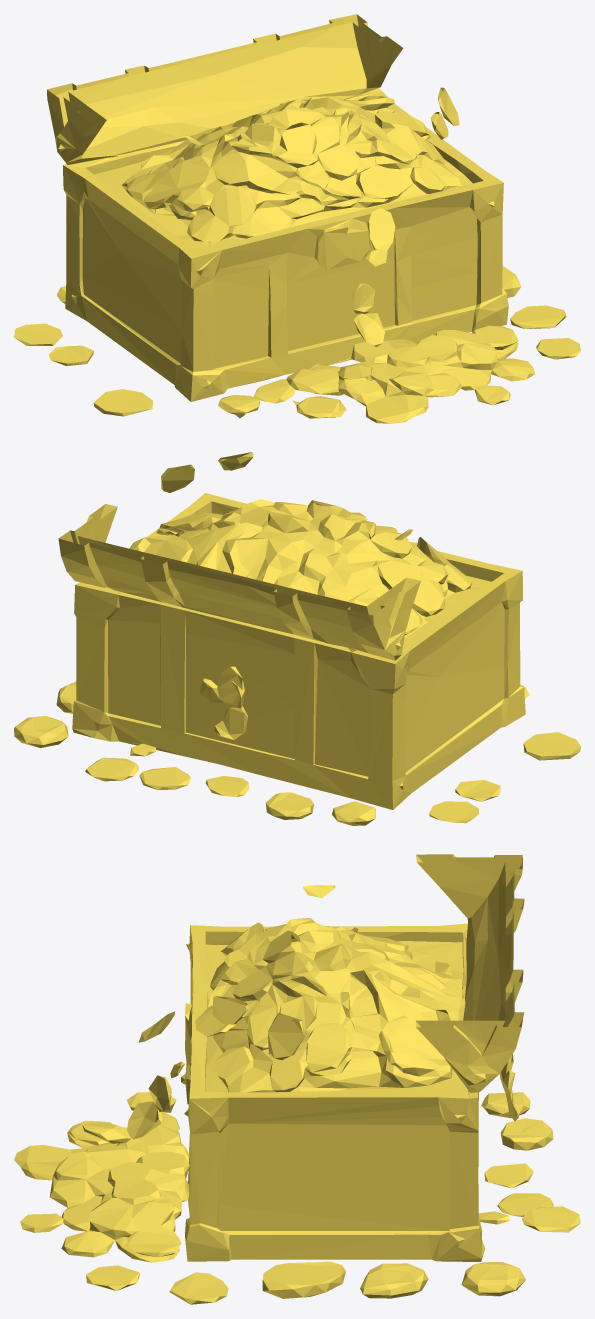
File: card-180.glb
3 renders of one model, top to bottom at view 1: azimuth 30°, elevation 25°; view 2: azimuth 150°, elevation 25°; view 3: azimuth 270°, elevation 25°, orthographic. The views are drawn at different scales.
Parts seen in each view (by area): view 1: LOW_904ea95e81af658d634d50e78027ec5d_scaled.obj; view 2: LOW_904ea95e81af658d634d50e78027ec5d_scaled.obj; view 3: LOW_904ea95e81af658d634d50e78027ec5d_scaled.obj.
Part boxes in pixels (left/top/right/bottom): LOW_904ea95e81af658d634d50e78027ec5d_scaled.obj: left=14, top=14, right=580, bottom=423; LOW_904ea95e81af658d634d50e78027ec5d_scaled.obj: left=14, top=452, right=580, bottom=825; LOW_904ea95e81af658d634d50e78027ec5d_scaled.obj: left=14, top=854, right=580, bottom=1304.
Size of the model in its own units: 0.35 by 0.1582 by 0.336.
